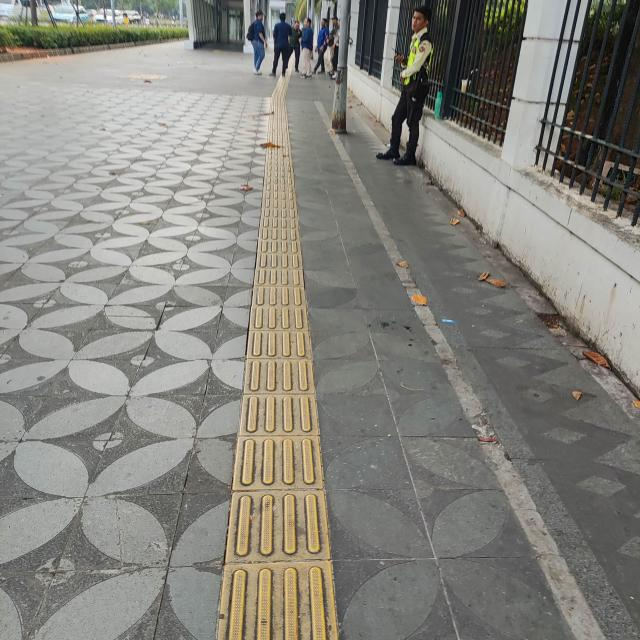lurus: (240, 102, 326, 640)
